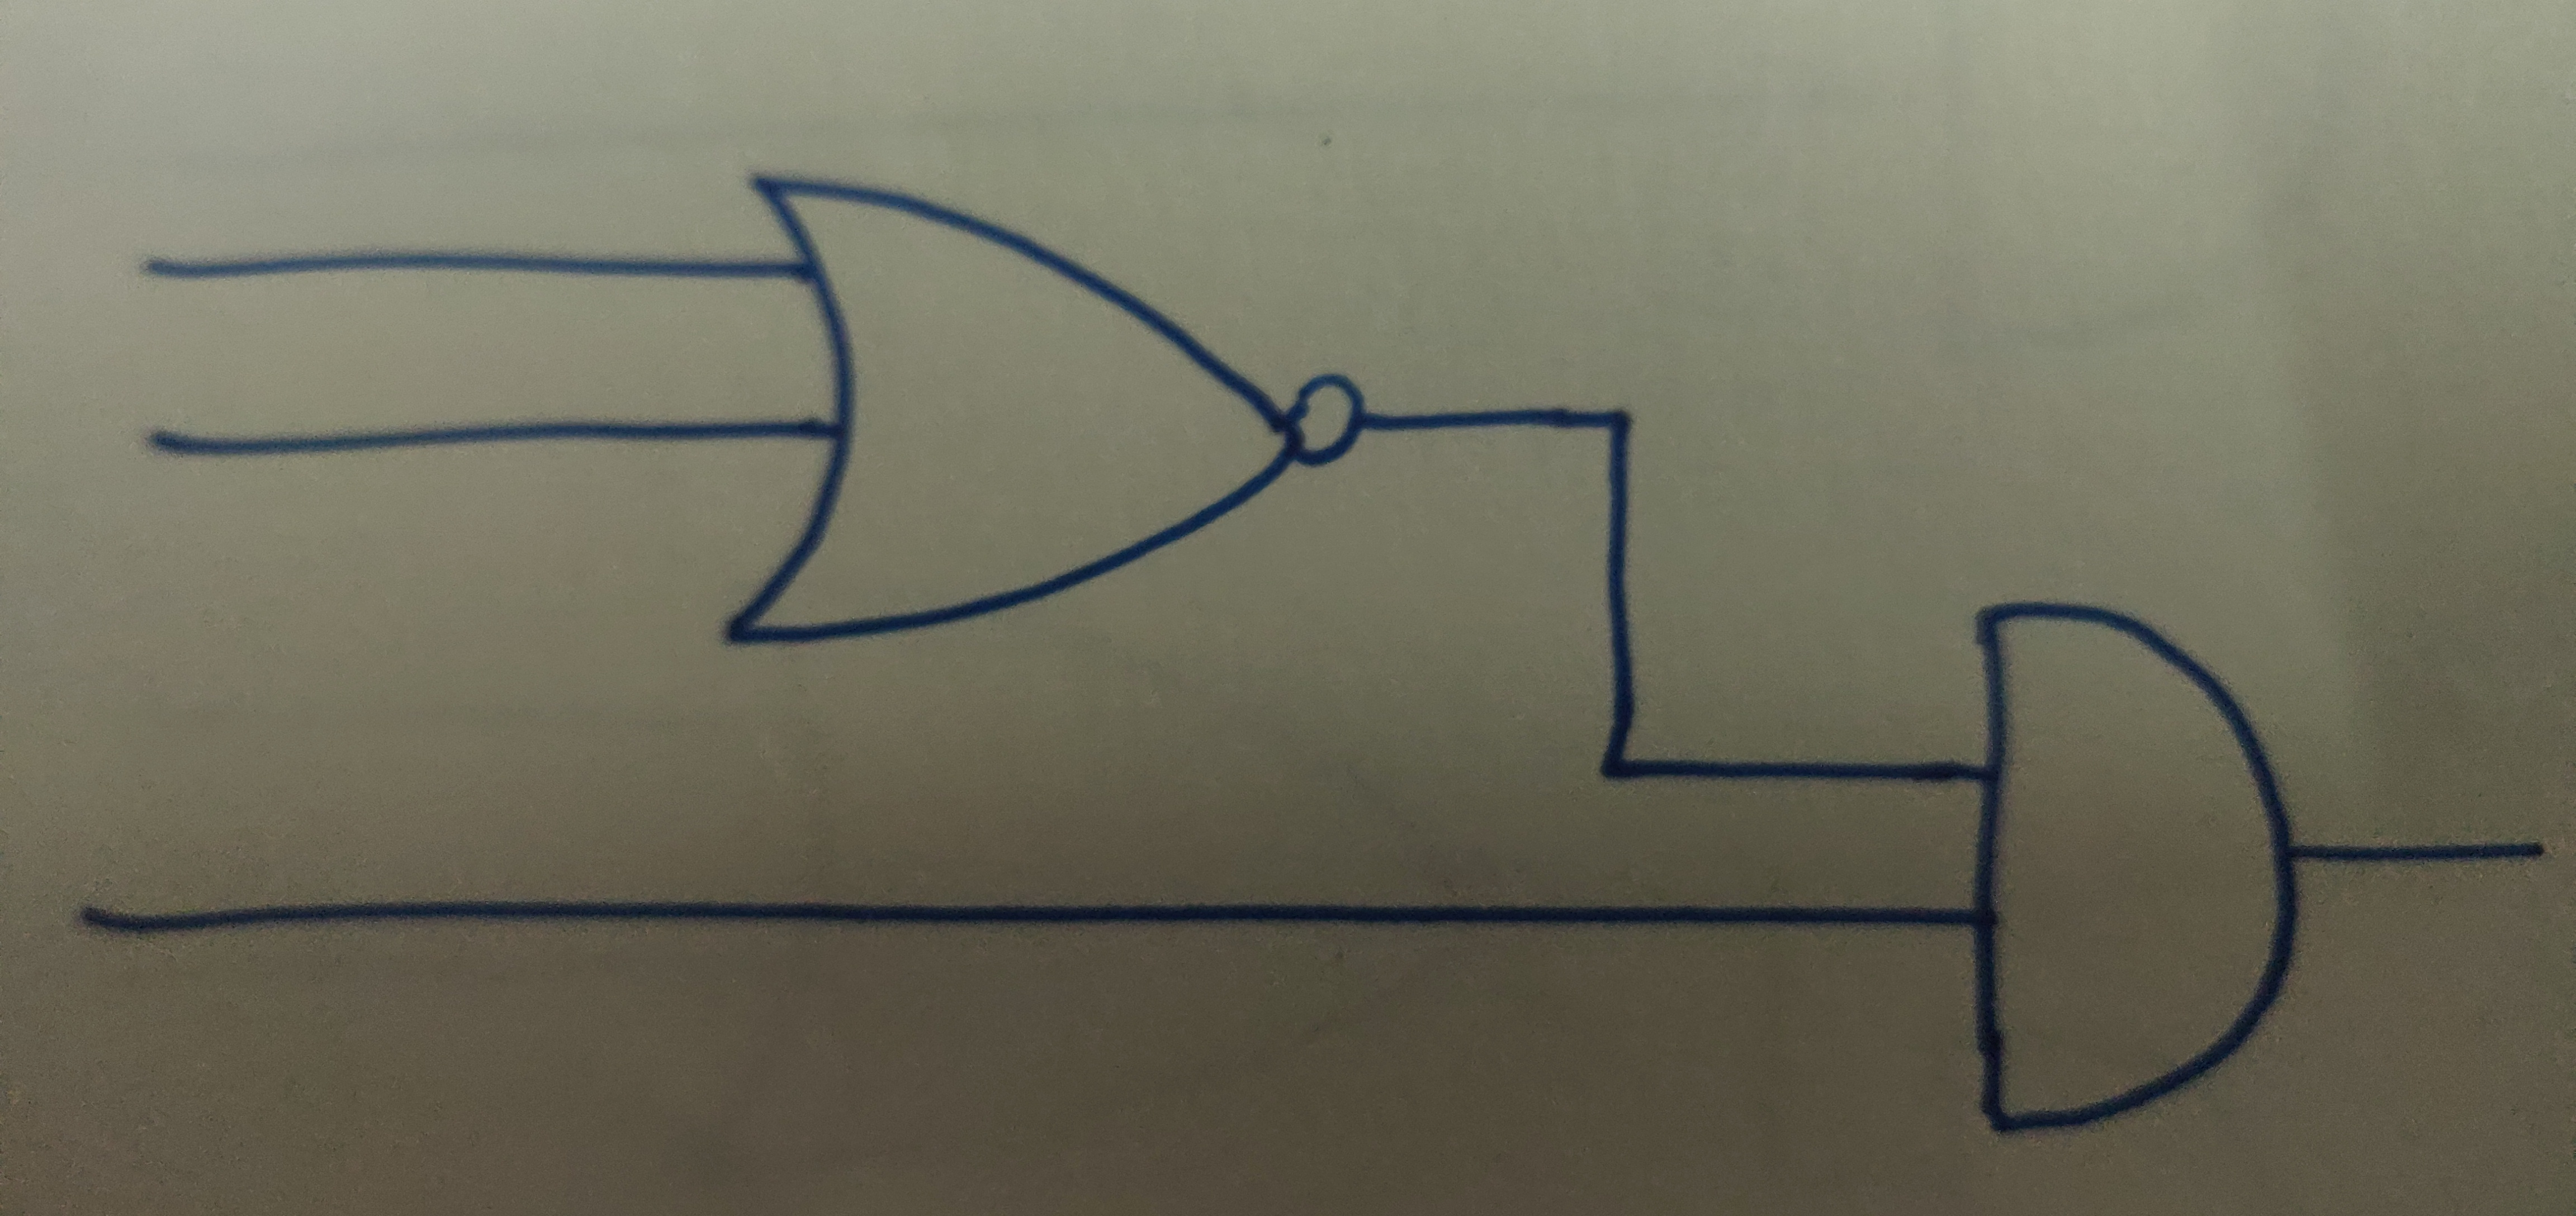and: (1962, 595, 2316, 1140)
not: (1281, 368, 1377, 477)
or: (731, 158, 1304, 664)
